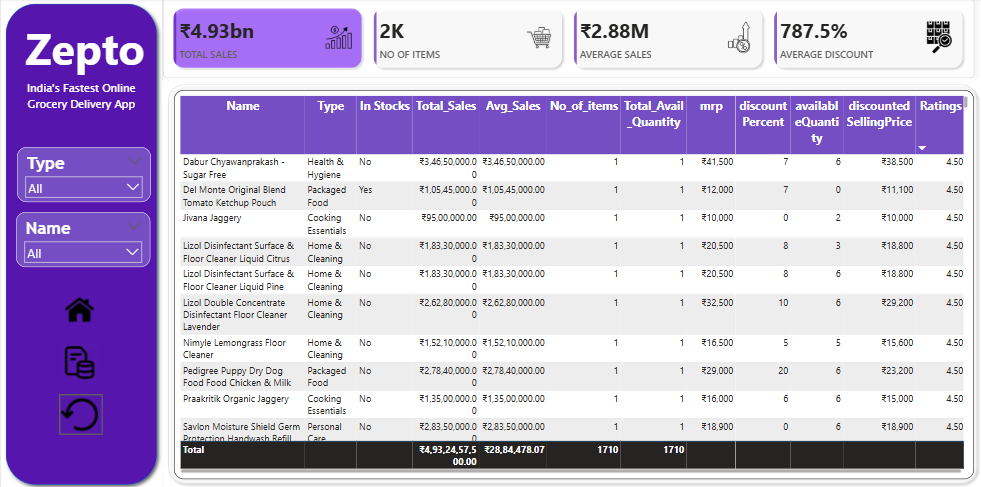

The page's visual inventory and layout, read from the dashboard file:
{"tool":"powerbi","page":{"name":"Data ","canvas":[2000,1000],"ordinal":1},"visuals":[{"type":"shape","box":[0,0,330.7,1001.1],"z":0},{"type":"textbox","box":[13.4,35.8,317.3,127.4],"z":1000},{"type":"textbox","box":[13.4,163.1,301.7,80.4],"z":2000},{"type":"cardVisual","fields":{"Data":["Sheet1.Total_Sales","Sheet1.No_of_items","Sheet1.Avg_Sales","Sheet1.Avg_Discount"]},"box":[330.7,0,1649.2,163.1],"z":3000},{"type":"shape","box":[330.2,162.8,1669.8,837.2],"z":4000},{"type":"slicer","fields":{"Values":["Sheet1.Type"]},"box":[34,302,272,112],"z":5000},{"type":"tableEx","fields":{"Values":["Sheet1.name","Sheet1.Type","Sheet1.outOfStock","Sheet1.Total_Sales","Sheet1.Avg_Sales","Sheet1.No_of_items","Sheet1.Total_Avail_Quantity","Sheet1.mrp","Sheet1.discountPercent","Sheet1.availableQuantity","Sheet1.discountedSellingPrice","Sheet1.Ratings "]},"box":[353.5,186,1625.6,790.7],"z":6000},{"type":"slicer","fields":{"Values":["Sheet1.name"]},"box":[33.5,435.8,272.6,111.7],"z":7000},{"type":"actionButton","box":[120.9,590.7,88.4,83.7],"z":8000},{"type":"actionButton","box":[120.9,700,88.4,83.7],"z":9000},{"type":"actionButton","box":[119.9,804.9,89.4,83.3],"z":10000}]}

Visuals, with their boxes in screenshot pixels (x1, y1, x2, y2), scaled from the page's 2000x1000 canvas onto the 981x487 screenshot:
shape: x1=0 y1=0 x2=162 y2=486
textbox: x1=7 y1=17 x2=162 y2=79
textbox: x1=7 y1=79 x2=155 y2=119
cardVisual - Sheet1.Total_Sales x Sheet1.No_of_items: x1=162 y1=0 x2=971 y2=79
shape: x1=162 y1=79 x2=980 y2=486
slicer - Sheet1.Type: x1=17 y1=147 x2=150 y2=202
tableEx - Sheet1.name x Sheet1.Type: x1=173 y1=91 x2=971 y2=476
slicer - Sheet1.name: x1=16 y1=212 x2=150 y2=267
actionButton: x1=59 y1=288 x2=103 y2=328
actionButton: x1=59 y1=341 x2=103 y2=382
actionButton: x1=59 y1=392 x2=103 y2=433
